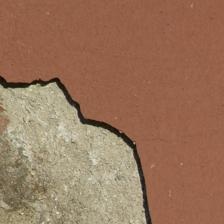Crack: (2, 37, 152, 185)
